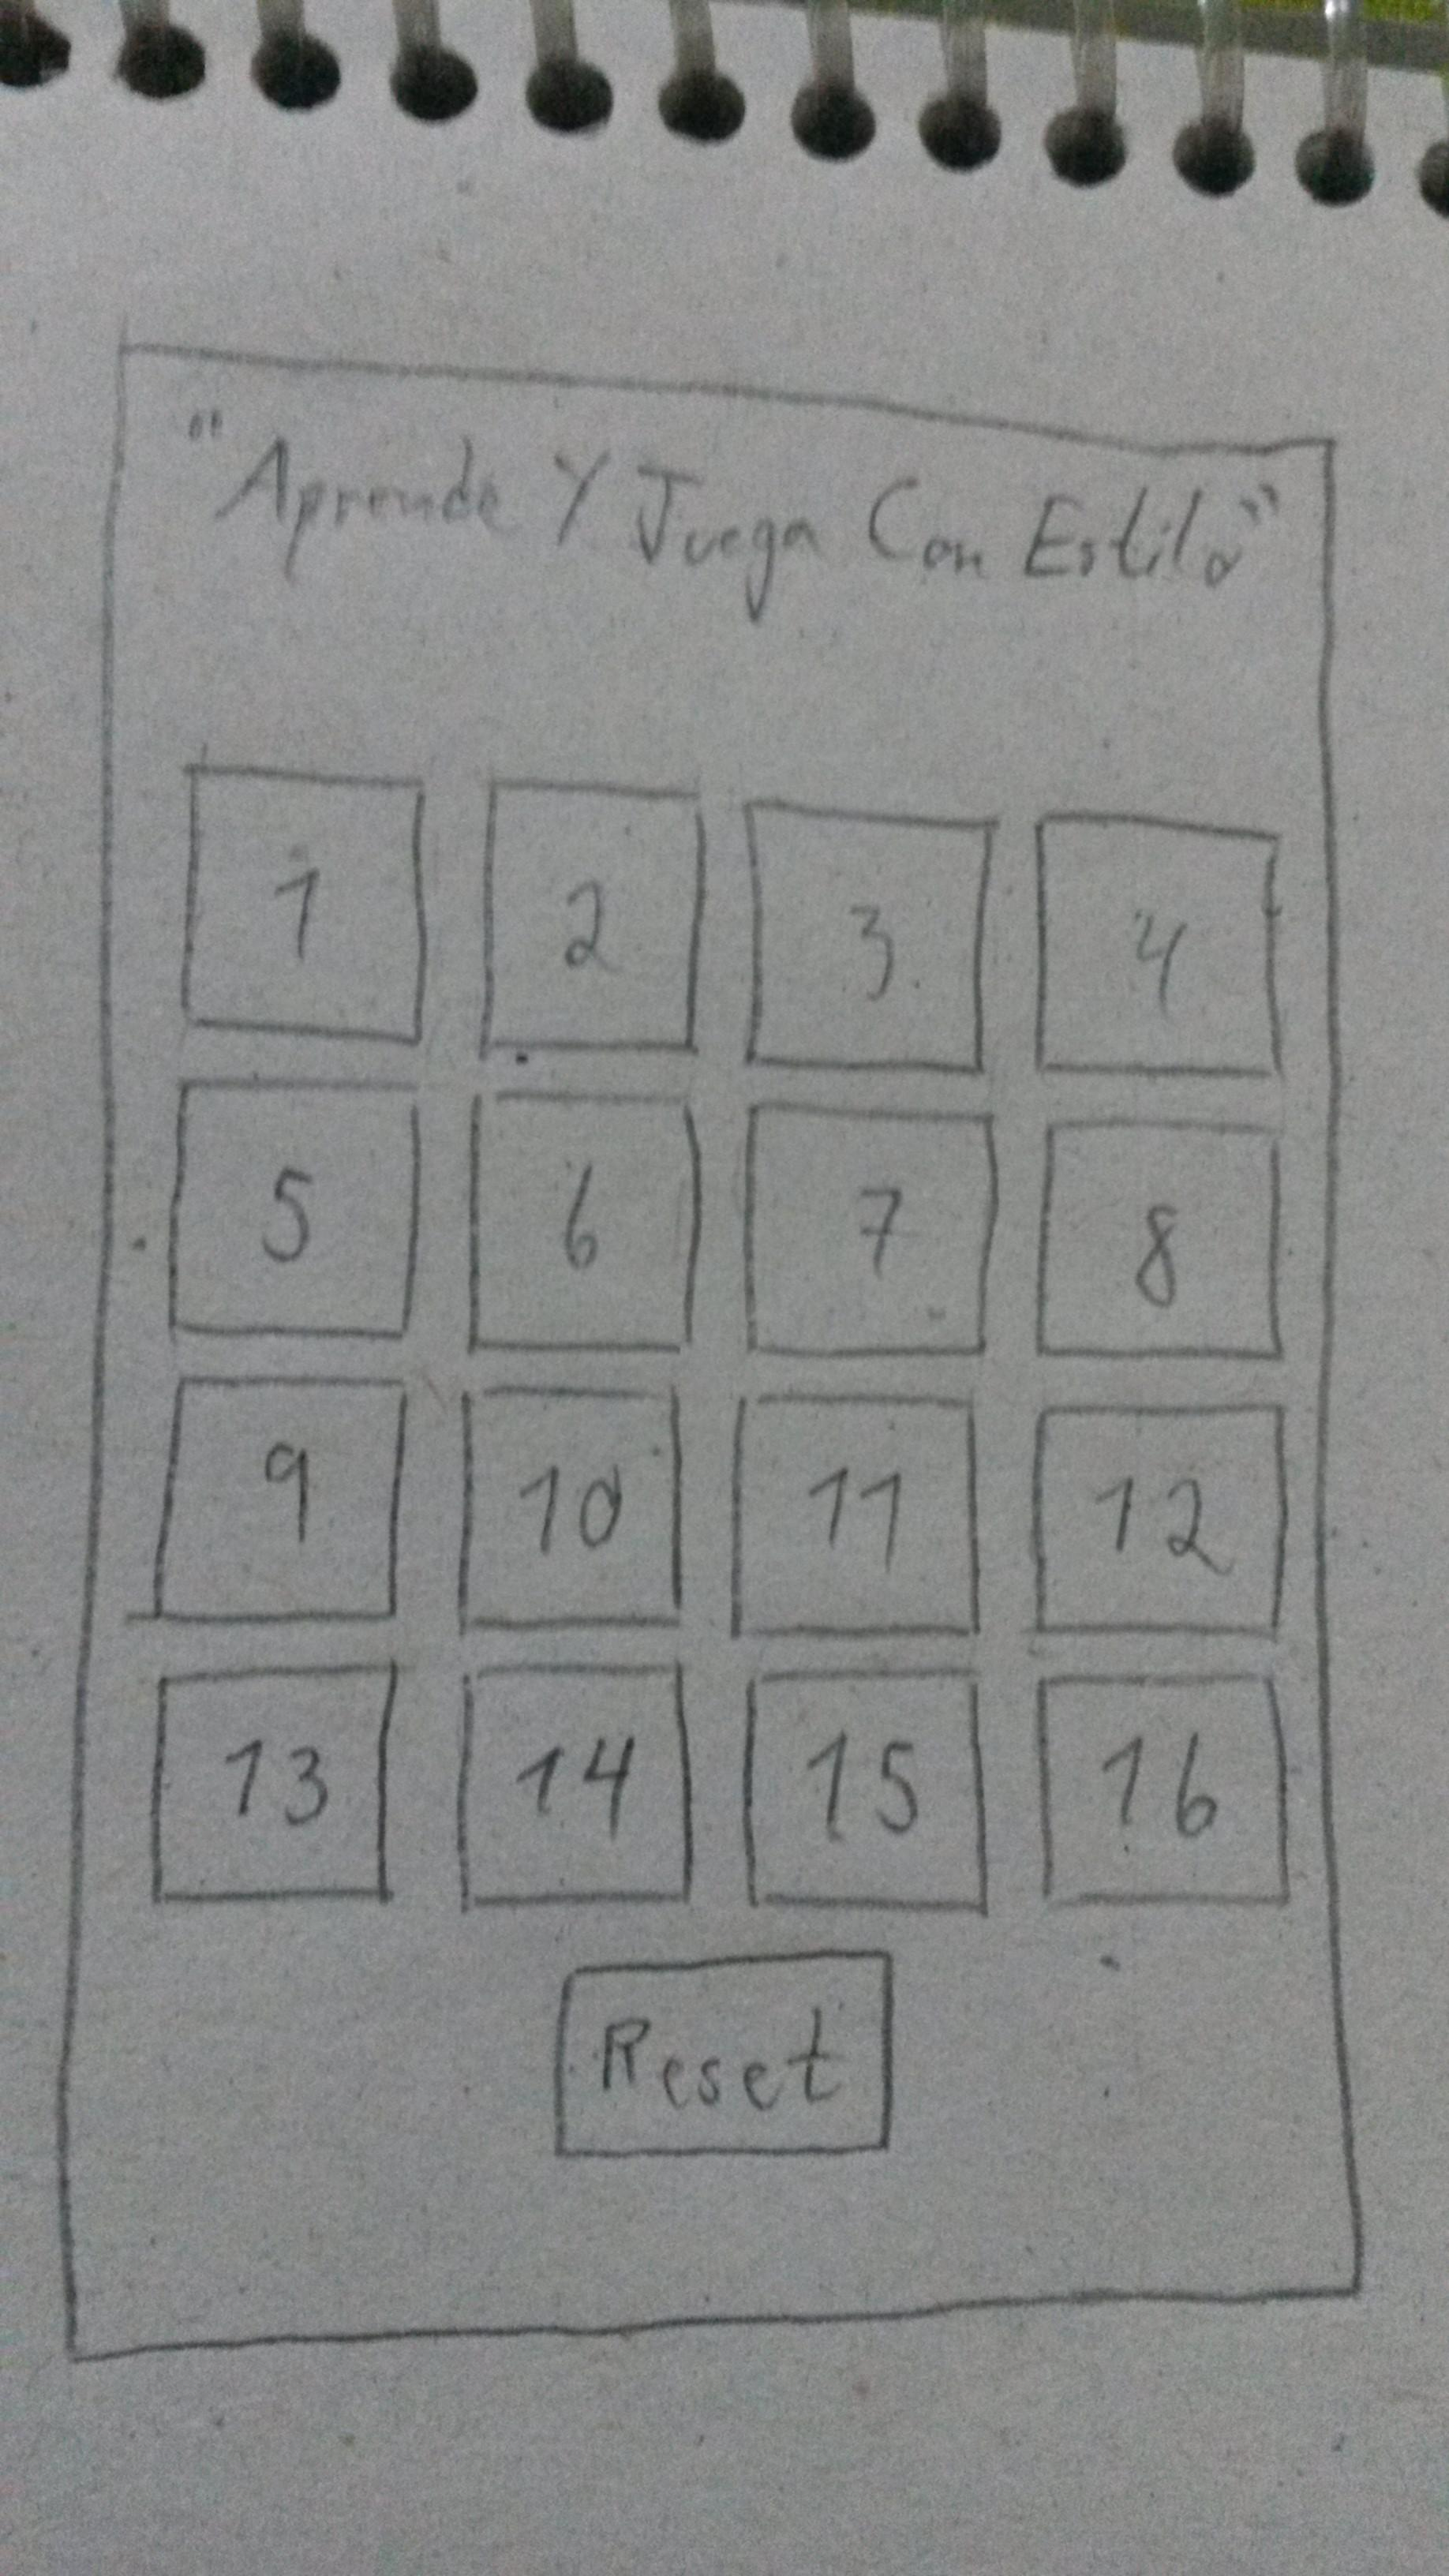Button: (550, 1950, 895, 2160), (743, 801, 998, 1076), (186, 763, 432, 1046), (1035, 812, 1284, 1077), (170, 1076, 419, 1339), (747, 1099, 1000, 1357), (147, 1373, 409, 1619), (1035, 1672, 1286, 1916), (469, 1090, 702, 1352), (732, 1391, 980, 1637), (1033, 1399, 1290, 1635), (483, 778, 704, 1051), (1035, 1118, 1284, 1359), (453, 1663, 694, 1905), (150, 1665, 395, 1904), (456, 1378, 683, 1635), (747, 1668, 982, 1909)
Label: (170, 407, 1288, 593)
Screen: (53, 340, 1368, 2364)
